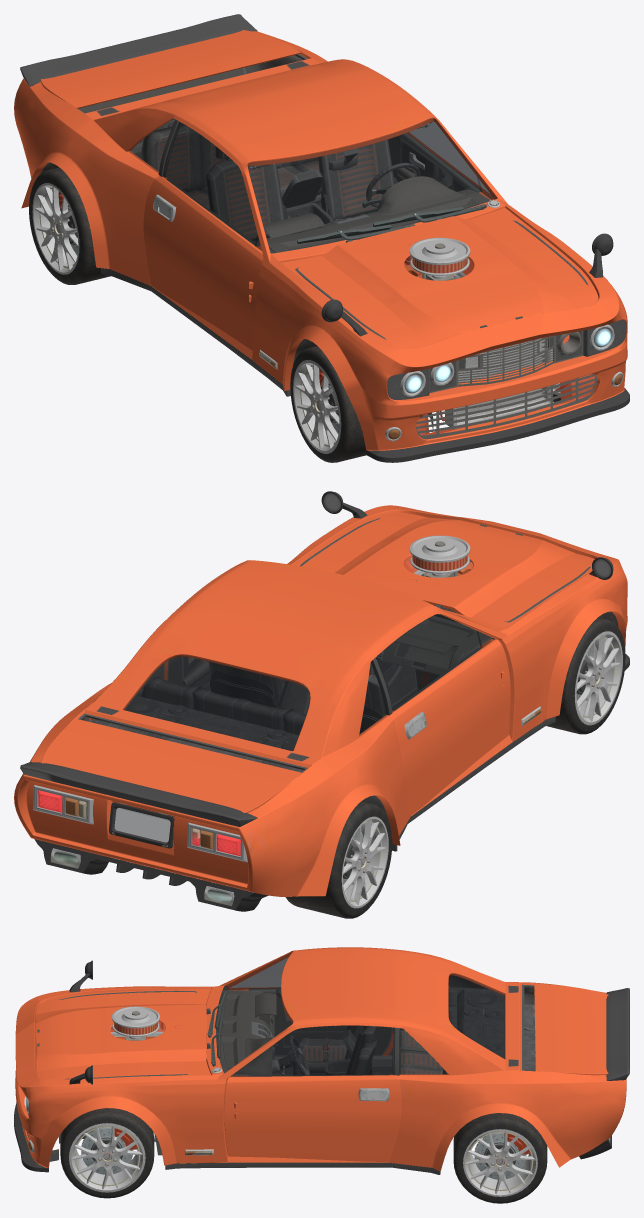
File: muscle-car-concept.glb
3 views of the same model, one above another, from view 1: azimuth 30°, elevation 25°; view 2: azimuth 150°, elevation 25°; view 3: azimuth 270°, elevation 25° (orthographic). The views are drawn at different scales.
Visible parts, largest first — view 1: paint, glass, interior, trim, trim_cutout, interior.2, wheel_fr_rim, headlight.2, wheel_rr_rim, wheel_rr_tyre, wheel_fr_tyre, engine (+5 smaller); view 2: paint, glass, interior, trim, interior.2, trim.2, wheel_fr_rim, taillight, wheel_rr_rim, wheel_rr_tyre, engine, wheel_fr_tyre (+3 smaller); view 3: paint, glass, interior, trim, interior.2, wheel_fl_rim, wheel_rl_rim, wheel_rl_tyre, wheel_fl_tyre, chassis, engine, trim.2 (+3 smaller).
Part boxes in pixels (x1,y1,x2,y2): paint: [14, 30, 627, 450]; glass: [129, 118, 496, 253]; interior: [141, 119, 492, 253]; trim: [20, 14, 629, 462]; trim_cutout: [415, 336, 597, 439]; interior.2: [253, 148, 497, 252]; wheel_fr_rim: [293, 360, 341, 453]; headlight.2: [387, 319, 626, 399]; wheel_rr_rim: [32, 183, 79, 274]; wheel_rr_tyre: [29, 167, 110, 284]; wheel_fr_tyre: [290, 346, 366, 462]; engine: [404, 237, 473, 280]; paint: [14, 505, 627, 896]; glass: [123, 614, 494, 750]; interior: [125, 633, 493, 750]; trim: [20, 491, 629, 826]; interior.2: [132, 615, 510, 843]; trim.2: [34, 524, 522, 911]; wheel_fr_rim: [574, 631, 622, 725]; taillight: [33, 785, 247, 862]; wheel_rr_rim: [341, 816, 388, 908]; wheel_rr_tyre: [285, 801, 392, 918]; engine: [403, 535, 473, 581]; wheel_fr_tyre: [546, 617, 625, 734]; paint: [15, 947, 626, 1170]; glass: [216, 953, 504, 1076]; interior: [227, 988, 501, 1076]; trim: [14, 960, 629, 1172]; interior.2: [216, 975, 496, 1117]; wheel_fl_rim: [69, 1123, 145, 1192]; wheel_rl_rim: [463, 1129, 537, 1196]; wheel_rl_tyre: [453, 1113, 547, 1203]; wheel_fl_tyre: [60, 1108, 154, 1198]; chassis: [49, 1129, 610, 1174]; engine: [110, 1006, 180, 1040]; trim.2: [37, 991, 611, 1159].
Bounding box in the file's own units: 2.2 × 1.4 × 4.77.
Materials: 23 (22 with a texture image).
